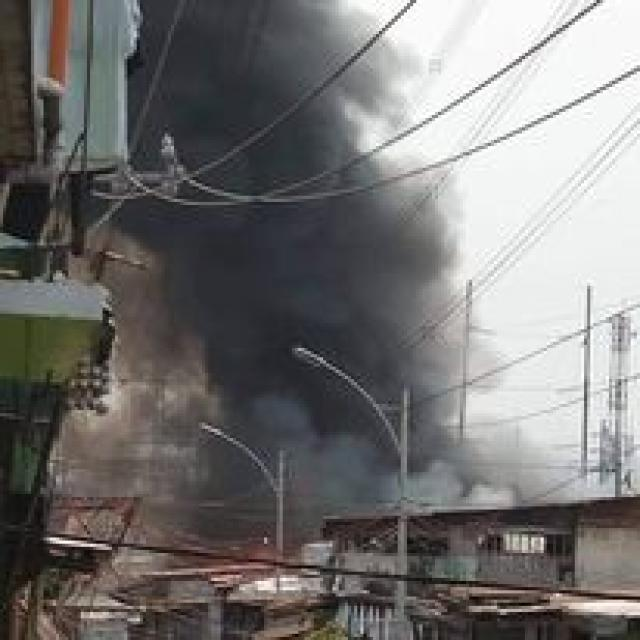Smoke: (93, 0, 534, 531)
